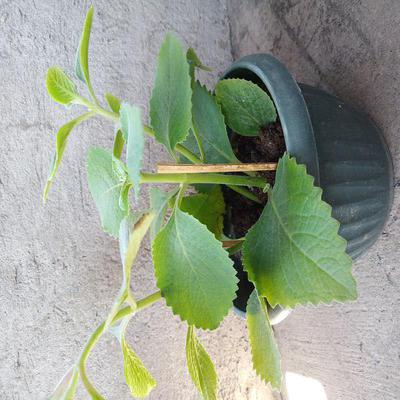Oregano: (27, 29, 353, 381)
